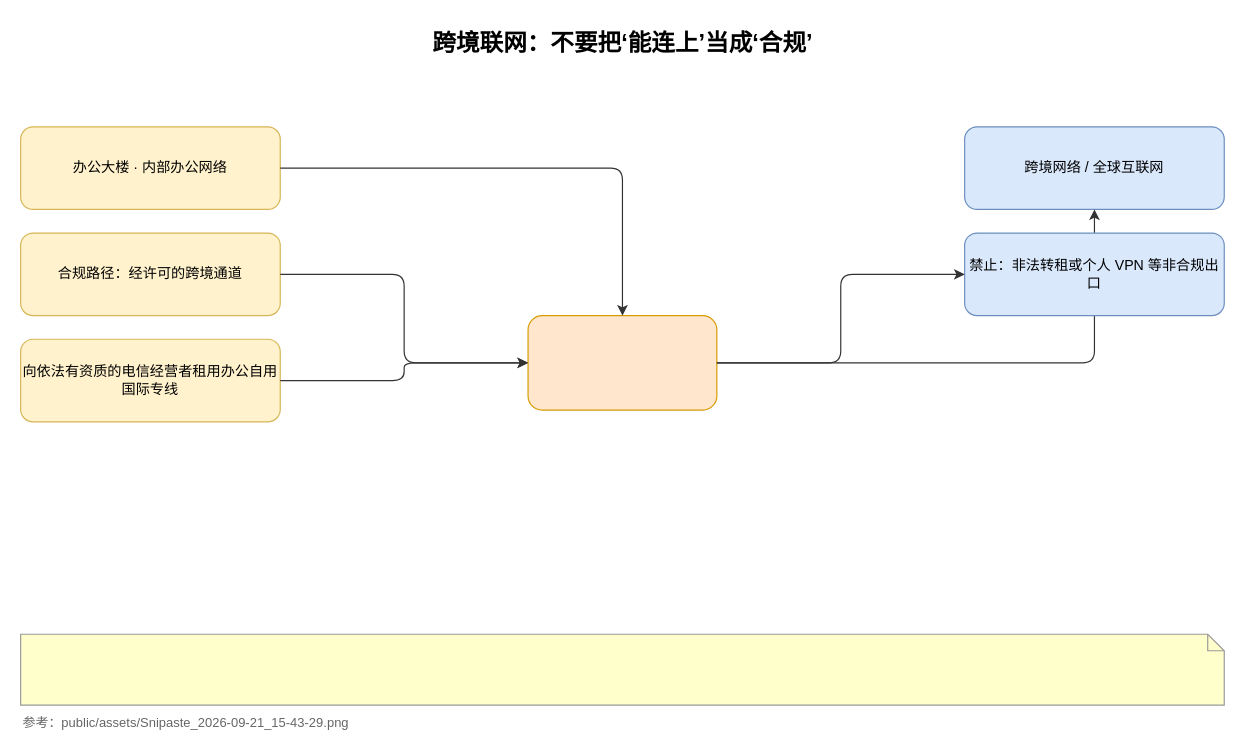
Image size: 1245x753. Some labels were removed from this diagram. The shapes that lost their labels are listed below. From the top down, each one's box as (x1, y1, x2, y2) in pixels, then its label:
(527, 314, 717, 410): 合规网关
(19, 633, 1224, 705): 不存在笼统的「个人使用当然合法」安全港
